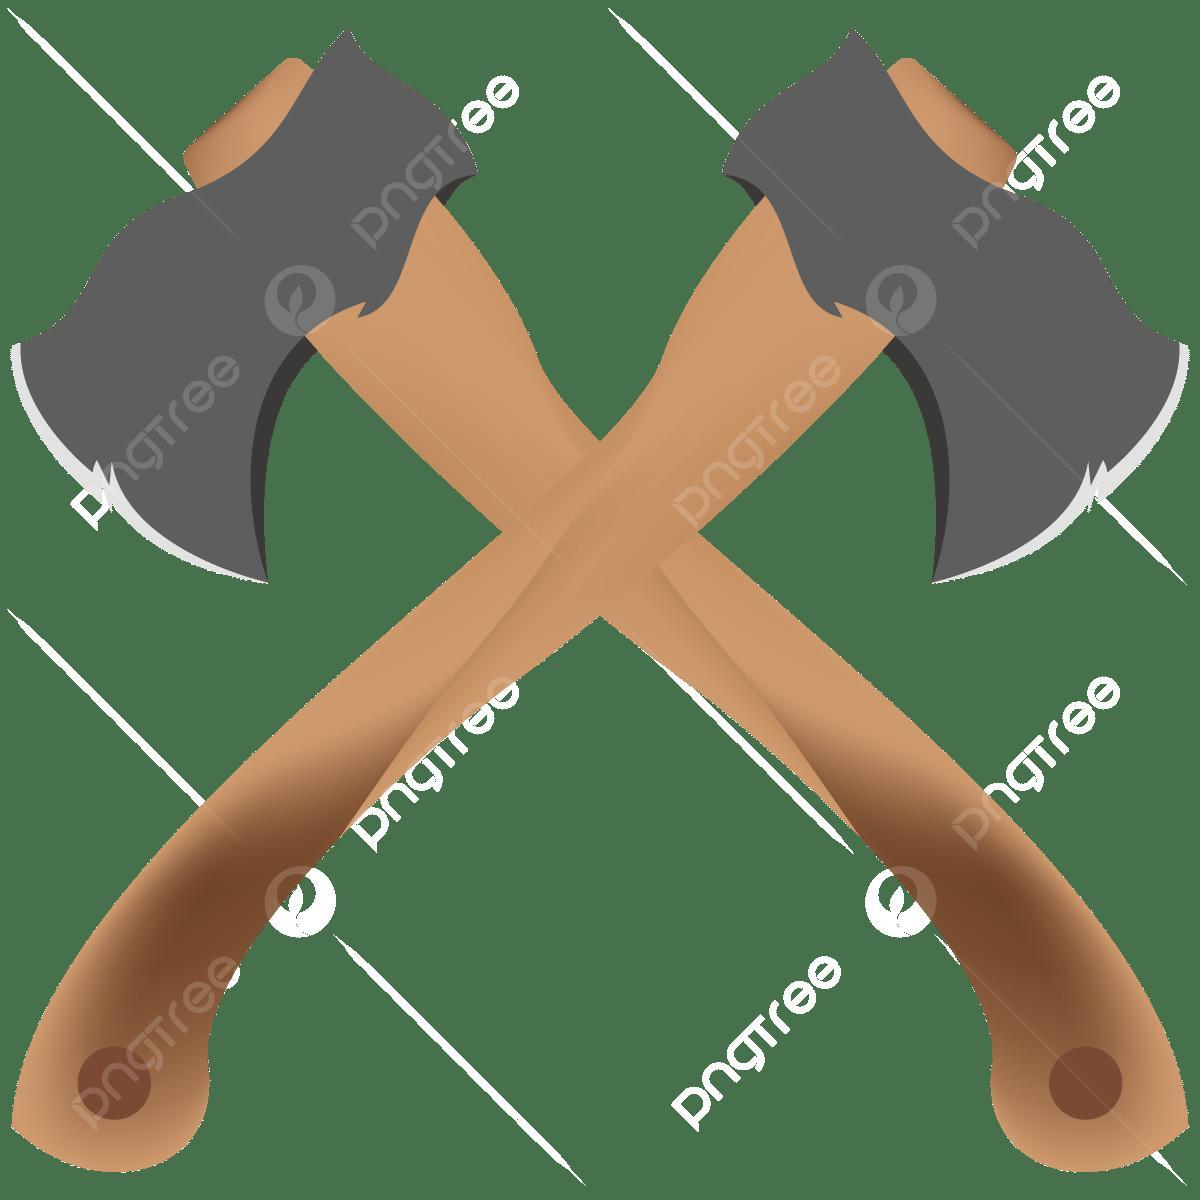machado: (14, 33, 595, 580), (619, 33, 1186, 582)
